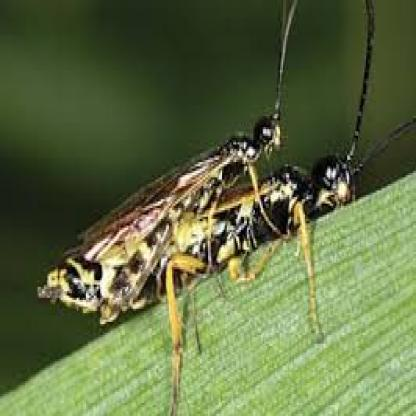sawfly: (117, 1, 416, 340), (35, 0, 298, 331)
